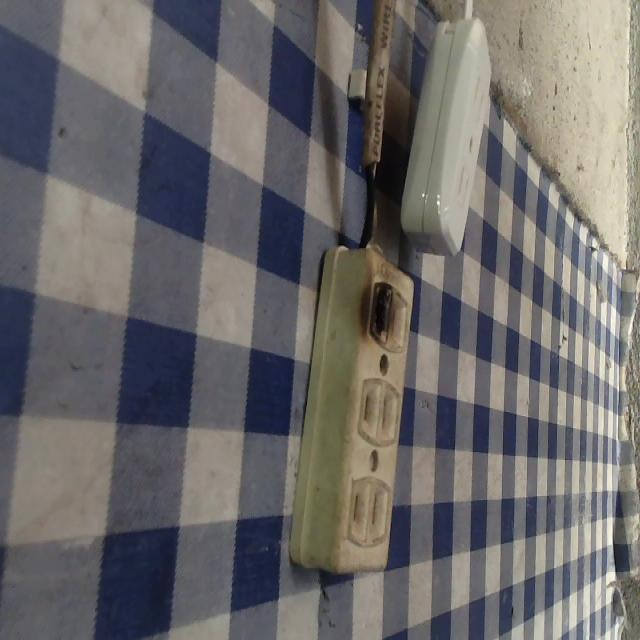-: (365, 272, 396, 353)
